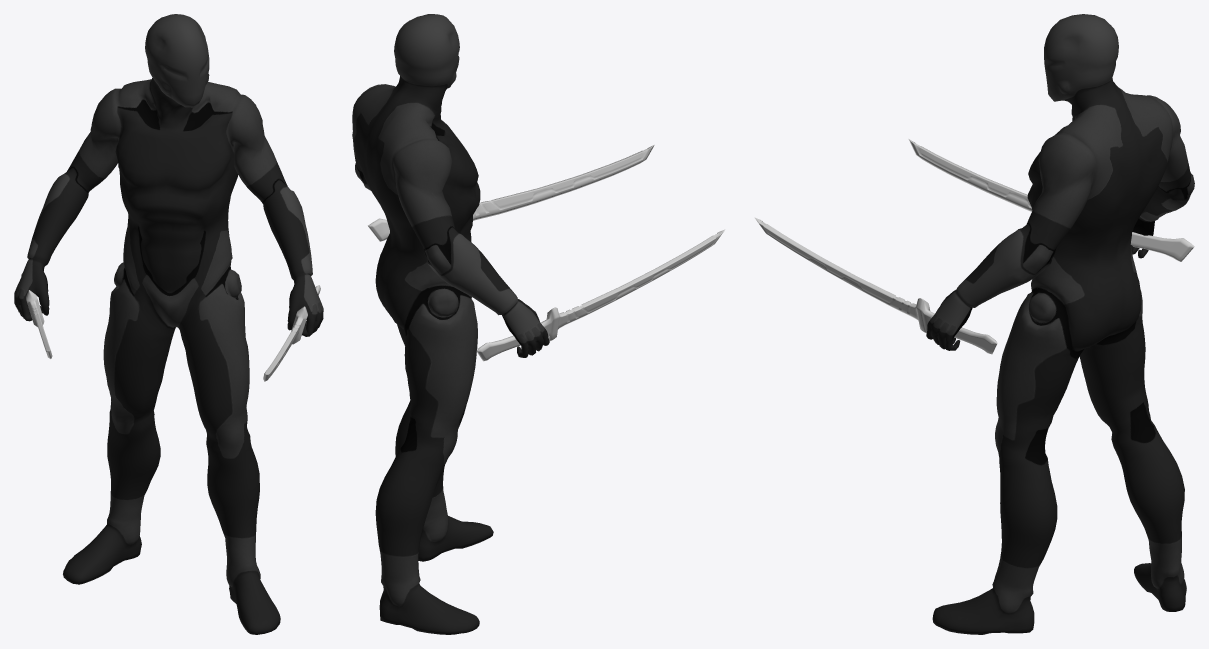
3 views of the same model, side by side, from view 1: azimuth 30°, elevation 25°; view 2: azimuth 150°, elevation 25°; view 3: azimuth 270°, elevation 25° (orthographic). The views are drawn at different scales.
Parts seen in each view (by area): view 1: Cyborg_Ninja_Killer, Sword_l, Sword_l001; view 2: Cyborg_Ninja_Killer, Sword_l001, Sword_l; view 3: Cyborg_Ninja_Killer, Sword_l, Sword_l001.
Part boxes in pixels (box(x1,y1,x2,y2)): Cyborg_Ninja_Killer: box(14, 14, 323, 634); Sword_l: box(263, 285, 320, 381); Sword_l001: box(21, 272, 52, 358); Cyborg_Ninja_Killer: box(352, 14, 549, 634); Sword_l001: box(476, 229, 725, 361); Sword_l: box(368, 145, 654, 241); Cyborg_Ninja_Killer: box(926, 14, 1194, 634); Sword_l: box(754, 217, 997, 354); Sword_l001: box(908, 139, 1194, 261).
Bounding box in the file's own units: 105 × 182 × 122.
